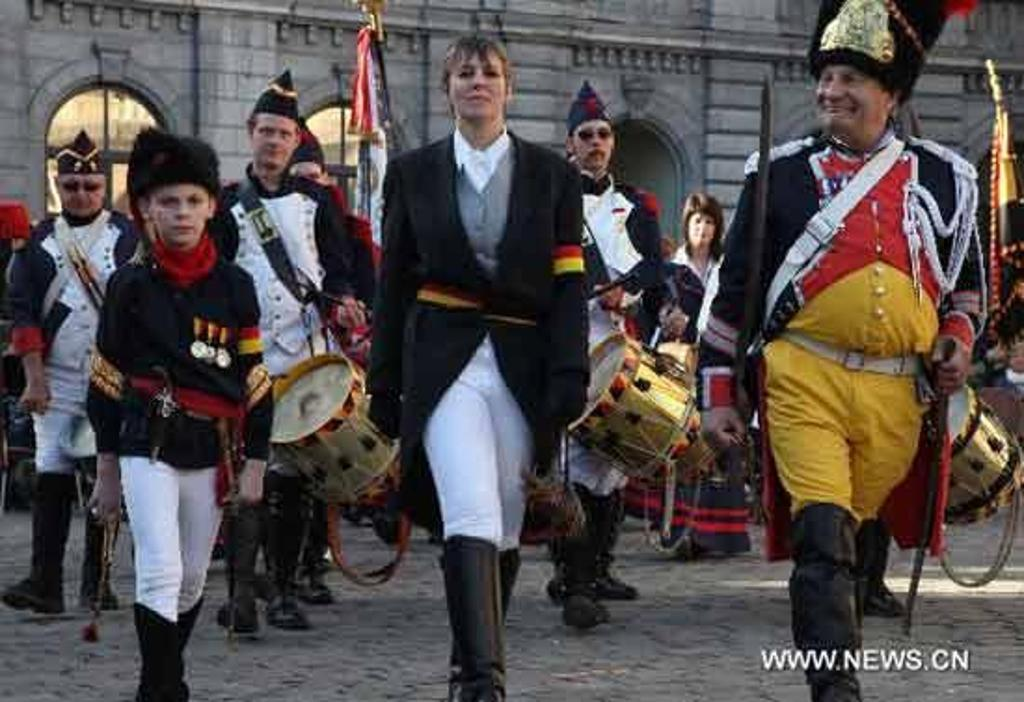face: (815, 50, 887, 124), (150, 177, 208, 242), (450, 49, 506, 116), (57, 165, 104, 216), (252, 114, 294, 167), (575, 118, 612, 168), (288, 163, 322, 206), (688, 209, 713, 242)
